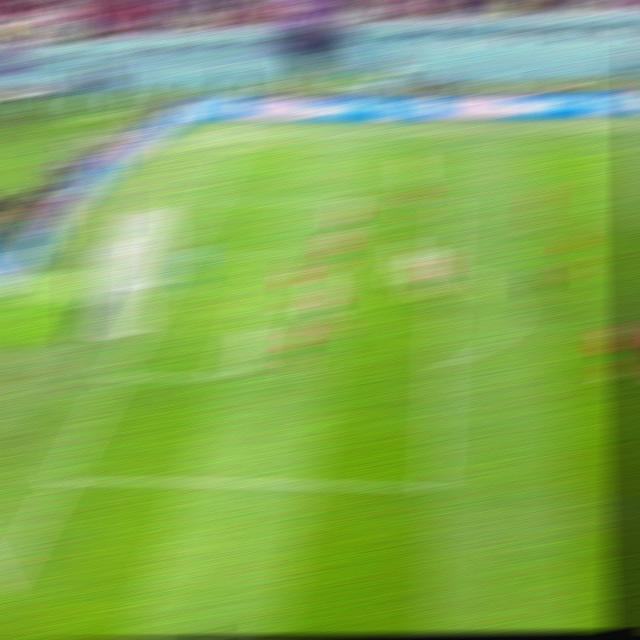bigarea_bottom_inner: (419, 472, 449, 497)
bigarea_bottom_outter: (46, 470, 77, 489)
bigarea_top_inner: (436, 195, 464, 209)
bigarea_top_outter: (196, 194, 220, 206)
bottom_arc_area_intersection: (428, 356, 457, 376)
corner: (223, 144, 249, 152)
smallarea_bottom_inner: (207, 364, 239, 388)
smallarea_bottom_outter: (101, 364, 132, 386)
smallarea_top_inner: (250, 247, 278, 265)
smallarea_top_outter: (165, 247, 191, 261)
top_arc_area_intersection: (433, 262, 459, 276)
